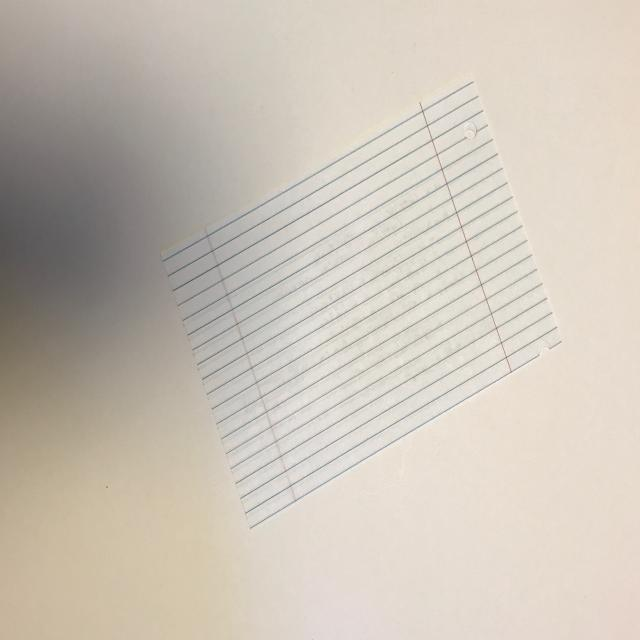paper: (159, 74, 562, 529)
